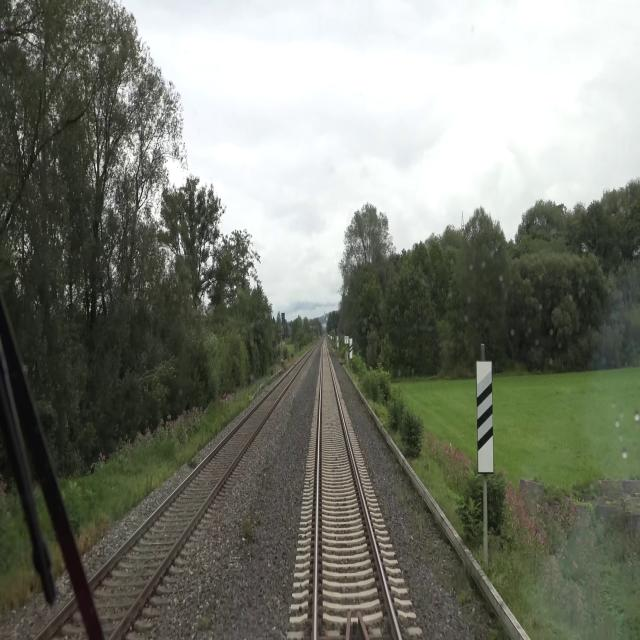rail-track: (39, 361, 301, 639), (317, 347, 397, 639)
